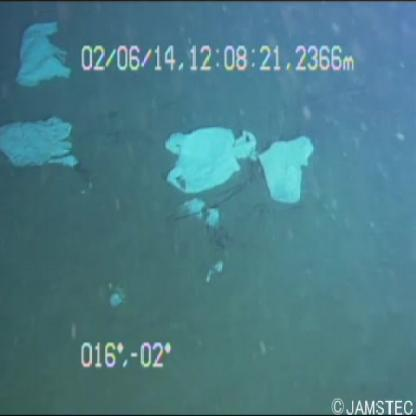Rác: (152, 108, 256, 196), (1, 103, 86, 182), (259, 120, 314, 206), (14, 14, 74, 90)
